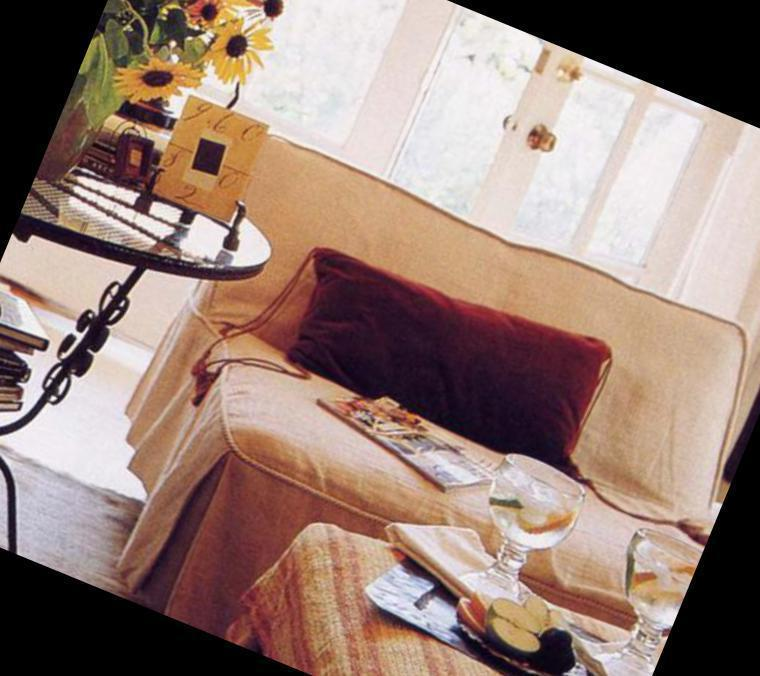Puerta: (485, 0, 760, 294)
